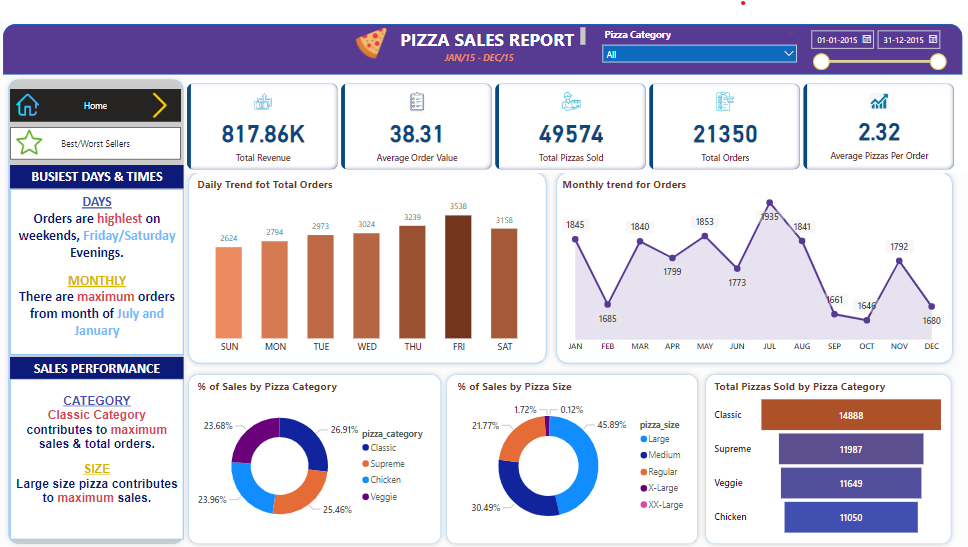

Layout of this report page (visuals, bound fields, positions):
{"tool":"powerbi","page":{"name":"Home","canvas":[1500,820],"ordinal":0},"visuals":[{"type":"shape","box":[12.1,12.1,1475.9,77.6],"z":0},{"type":"textbox","box":[619,12.1,294.8,41.4],"z":1000},{"type":"textbox","box":[686.2,50,127.6,27.6],"z":2000},{"type":"image","box":[537.9,12.1,81,58.6],"z":3000},{"type":"shape","box":[289.7,232.8,567.2,310.3],"z":4000},{"type":"columnChart","title":"Daily Trend fot Total Orders","fields":{"Category":["pizza_sales.Order Day"],"Y":["pizza_sales.Total Orders"]},"box":[306.9,248.3,532.8,279.3],"z":5000},{"type":"shape","box":[855.2,232.8,625.9,310.3],"z":6000},{"type":"areaChart","title":"Monthly trend for Orders","fields":{"Category":["pizza_sales.Order Month"],"Y":["pizza_sales.Total Orders"]},"box":[867.2,248.3,598.3,279.3],"z":7000},{"type":"shape","box":[289.7,543.1,405.2,277.6],"z":8000},{"type":"shape","box":[1084.5,543.1,394.8,277.6],"z":9000},{"type":"shape","box":[686.2,543.1,403.4,277.6],"z":10000},{"type":"donutChart","title":"% of Sales by Pizza Category","fields":{"Category":["pizza_sales.pizza_category"],"Y":["pizza_sales.Total Revenue"]},"box":[306.9,558.6,372.4,246.6],"z":11000},{"type":"donutChart","title":"% of Sales by Pizza Size","fields":{"Category":["pizza_sales.pizza_size"],"Y":["pizza_sales.Total Revenue"]},"box":[706.9,558.6,370.7,246.6],"z":12000},{"type":"funnel","title":"Total Pizzas Sold by Pizza Category","fields":{"Category":["pizza_sales.pizza_category"],"Y":["pizza_sales.Total Pizzas Sold"]},"box":[1101.7,558.6,363.8,246.6],"z":13000},{"type":"cardVisual","fields":{"Data":["pizza_sales.Total Revenue","pizza_sales.Average Order Value","pizza_sales.Total Pizzas Sold","pizza_sales.Total Orders","pizza_sales.Average Pizzas Per Order"]},"box":[275.9,98.3,1224.1,143.1],"z":14000},{"type":"shape","box":[12.1,89.7,286,731],"z":15000},{"type":"textbox","box":[22.4,265.5,267.2,255.2],"z":16000},{"type":"textbox","box":[22.4,524.1,267.2,36.2],"z":17000},{"type":"textbox","box":[22.4,229.3,267.2,36.2],"z":18000},{"type":"textbox","box":[22.4,558.6,267.2,246.6],"z":19000},{"type":"slicer","fields":{"Values":["pizza_sales.pizza_category"]},"box":[924.1,12.1,319,65.5],"z":20000},{"type":"slicer","fields":{"Values":["pizza_sales.order_date"]},"box":[1243.1,12.1,229.3,75.9],"z":21000},{"type":"pageNavigator","box":[22.4,170.7,263,50],"z":22000},{"type":"pageNavigator","box":[22.4,112.1,263,50],"z":23000},{"type":"image","box":[227.6,112.1,51.7,50],"z":24000},{"type":"image","box":[27.6,106.9,44.8,60.3],"z":24001},{"type":"image","box":[27.6,163.8,50,62.1],"z":24002}]}

Visuals, with their boxes on the page's 1500x820 design canvas (x1, y1, x2, y2). These are canvas units, not pixel positions in the 968x547 screenshot, which may show the page scaled, cropped or inside an application window:
shape: left=12, top=12, right=1488, bottom=90
textbox: left=619, top=12, right=914, bottom=54
textbox: left=686, top=50, right=814, bottom=78
image: left=538, top=12, right=619, bottom=71
shape: left=290, top=233, right=857, bottom=543
"Daily Trend fot Total Orders" columnChart: left=307, top=248, right=840, bottom=528
shape: left=855, top=233, right=1481, bottom=543
"Monthly trend for Orders" areaChart: left=867, top=248, right=1466, bottom=528
shape: left=290, top=543, right=695, bottom=821
shape: left=1084, top=543, right=1479, bottom=821
shape: left=686, top=543, right=1090, bottom=821
"% of Sales by Pizza Category" donutChart: left=307, top=559, right=679, bottom=805
"% of Sales by Pizza Size" donutChart: left=707, top=559, right=1078, bottom=805
"Total Pizzas Sold by Pizza Category" funnel: left=1102, top=559, right=1466, bottom=805
cardVisual - pizza_sales.Total Revenue x pizza_sales.Average Order Value: left=276, top=98, right=1500, bottom=241
shape: left=12, top=90, right=298, bottom=821
textbox: left=22, top=266, right=290, bottom=521
textbox: left=22, top=524, right=290, bottom=560
textbox: left=22, top=229, right=290, bottom=266
textbox: left=22, top=559, right=290, bottom=805
slicer - pizza_sales.pizza_category: left=924, top=12, right=1243, bottom=78
slicer - pizza_sales.order_date: left=1243, top=12, right=1472, bottom=88
pageNavigator: left=22, top=171, right=285, bottom=221
pageNavigator: left=22, top=112, right=285, bottom=162
image: left=228, top=112, right=279, bottom=162
image: left=28, top=107, right=72, bottom=167
image: left=28, top=164, right=78, bottom=226
